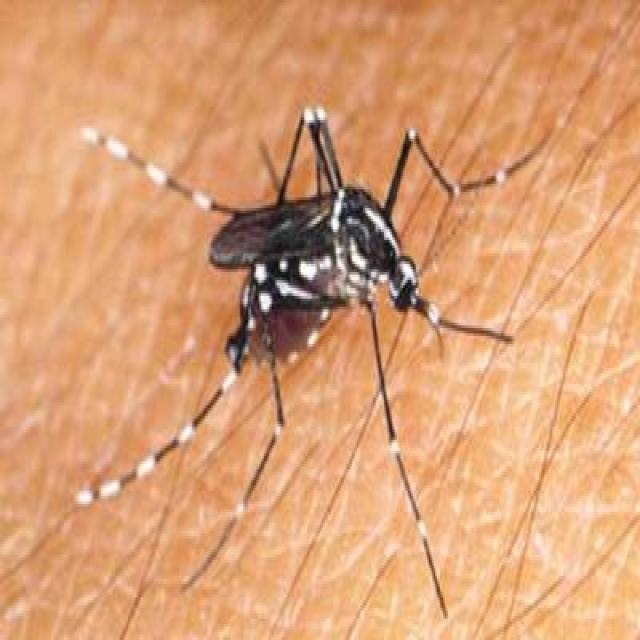body: (209, 196, 419, 360)
insect: (81, 103, 544, 616)
legs: (83, 308, 538, 608), (83, 104, 546, 200)
mouthpart: (409, 278, 518, 360)
wings: (209, 197, 335, 270)
